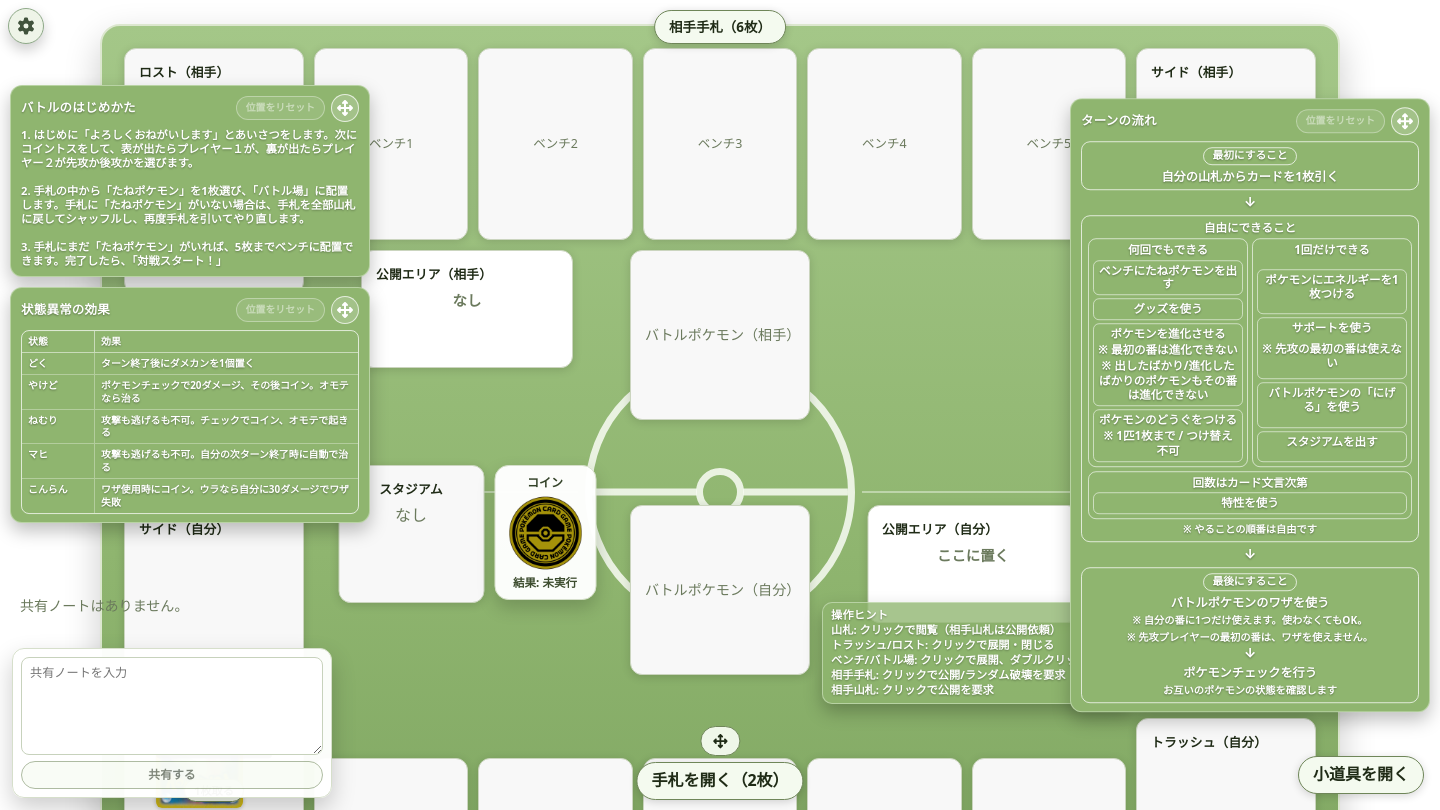
opens random discard request modal and allows count adjustment
The image size is (1440, 810).
Click the button "相手手札（6枚）" at (720, 27), box [654,10,786,44]
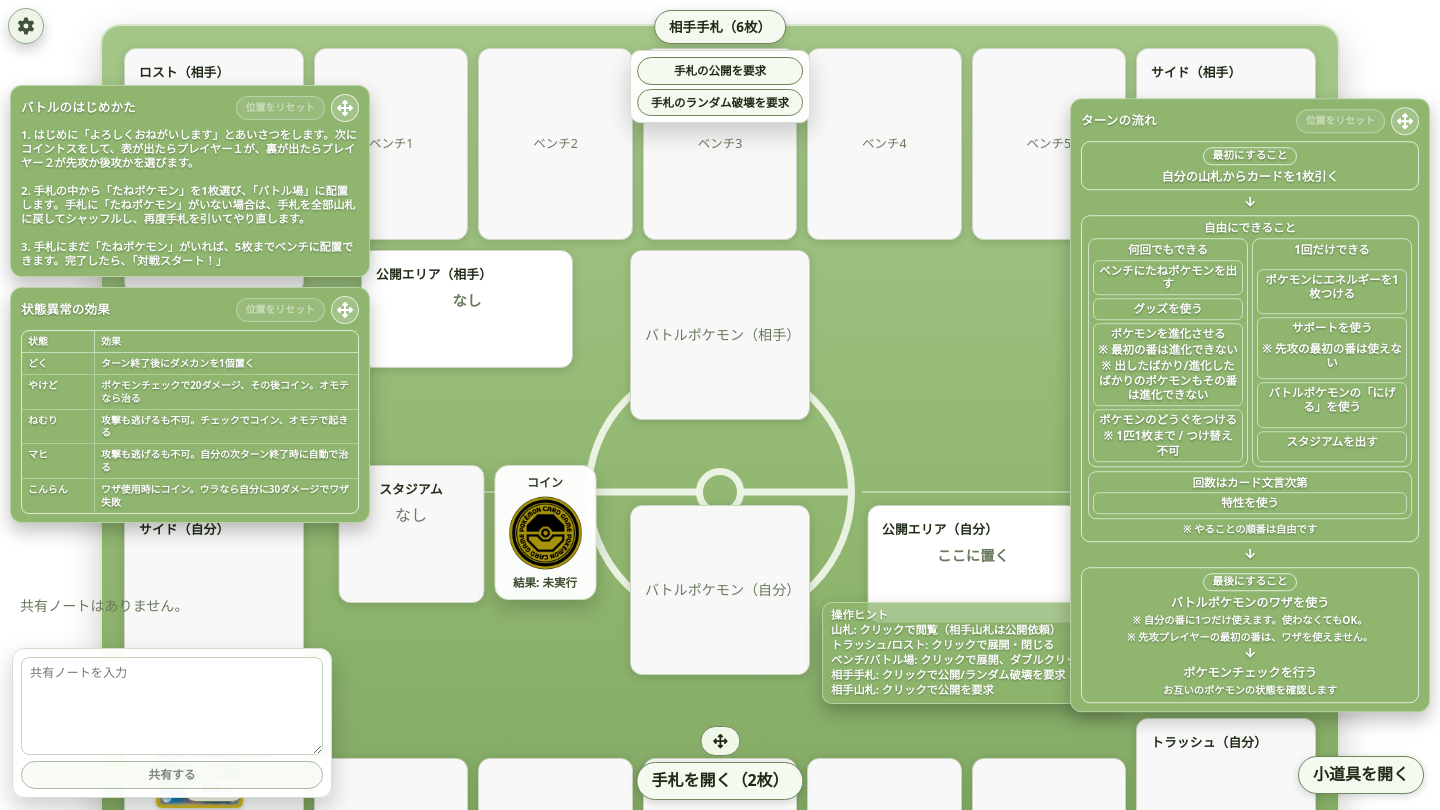
expect the button "手札のランダム破壊を要求" is shown: met
Click the button "手札のランダム破壊を要求" at (720, 102), box [637,88,803,116]
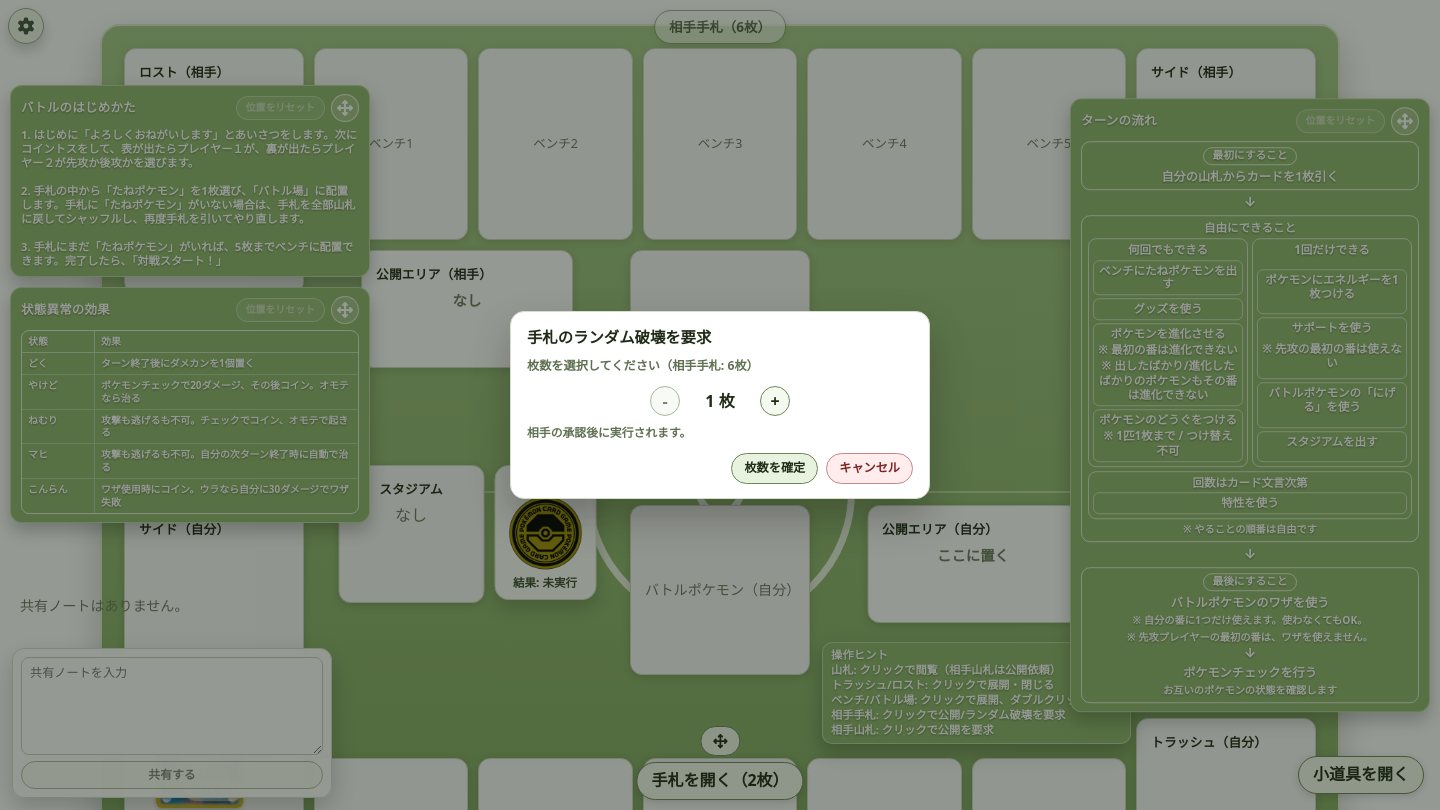
expect the text "手札のランダム破壊を要求" is shown: met, box [527,327,711,348]
expect the text "1 枚" is shown: met, box [705,390,735,412]
Click the button named "要求枚数を1枚増やす" at (775, 401), box [760,386,790,416]
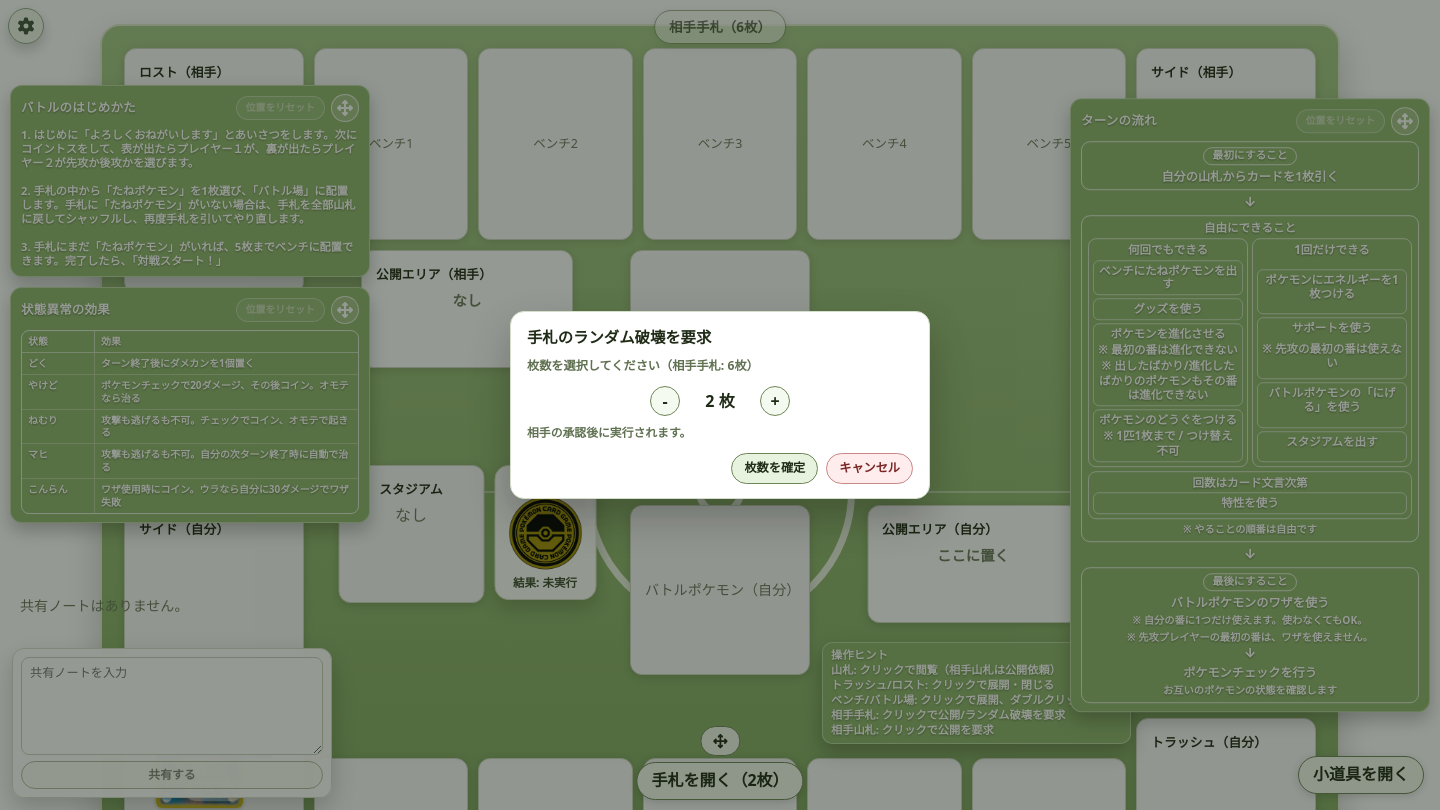
expect the text "2 枚" is shown: met, box [705,390,735,412]
Click the button named "要求枚数を1枚減らす" at (665, 401), box [650,386,680,416]
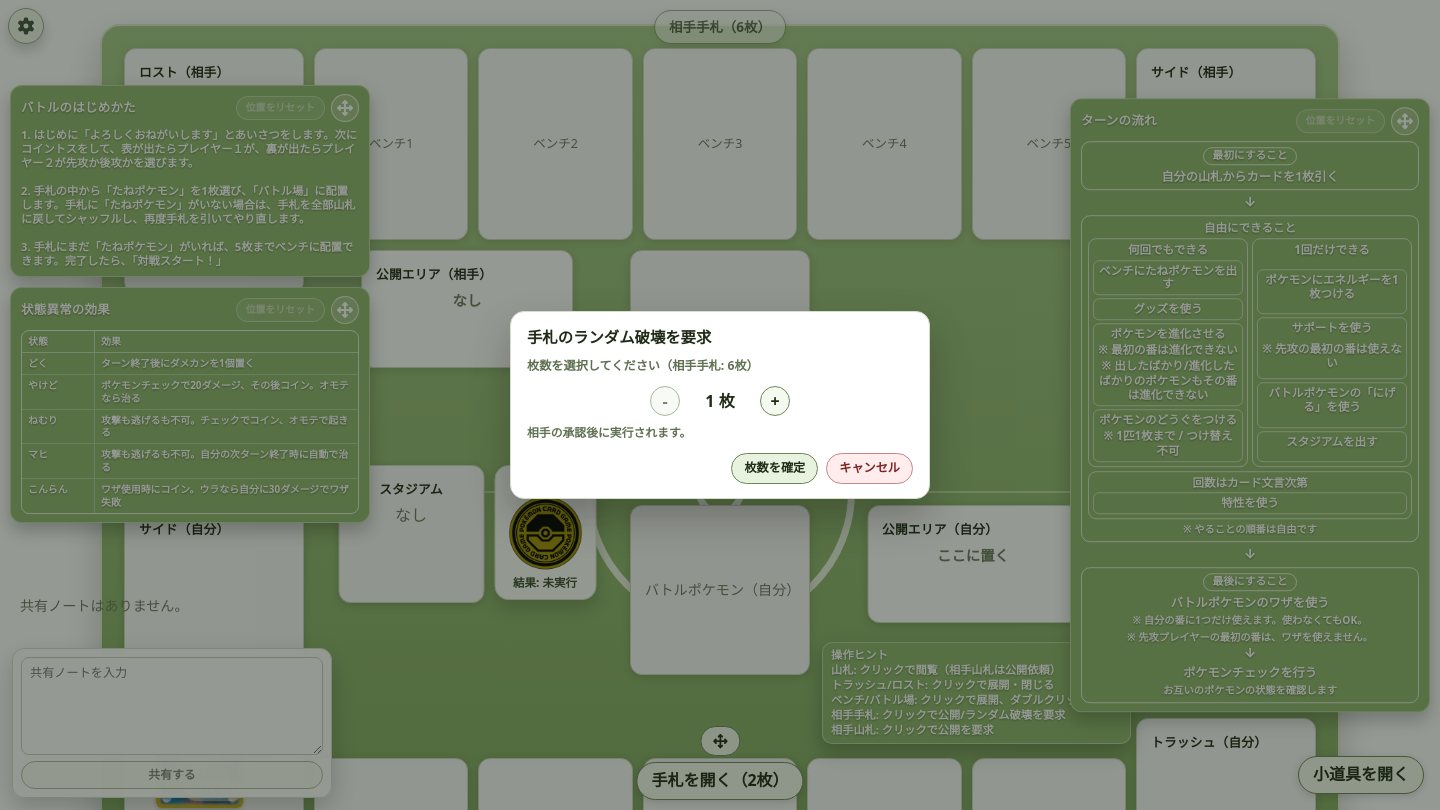
expect the text "1 枚" is shown: met, box [705,390,735,412]
